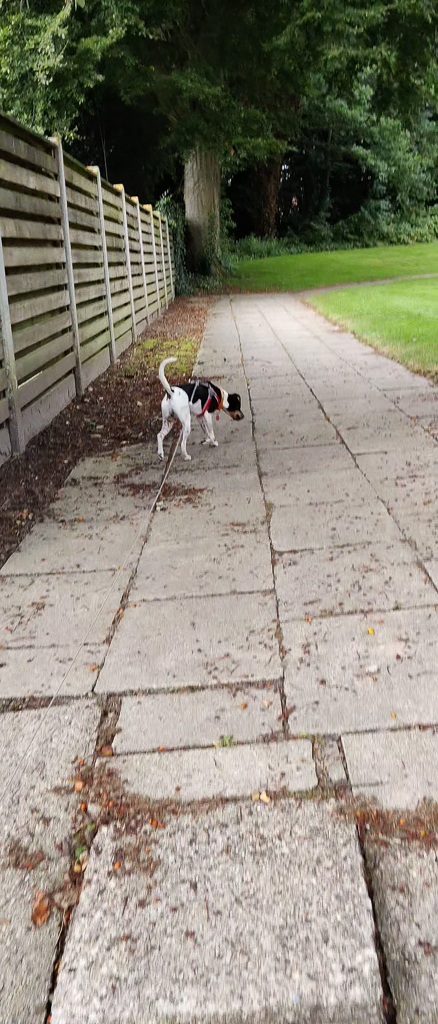Dog: (144, 351, 264, 471)
